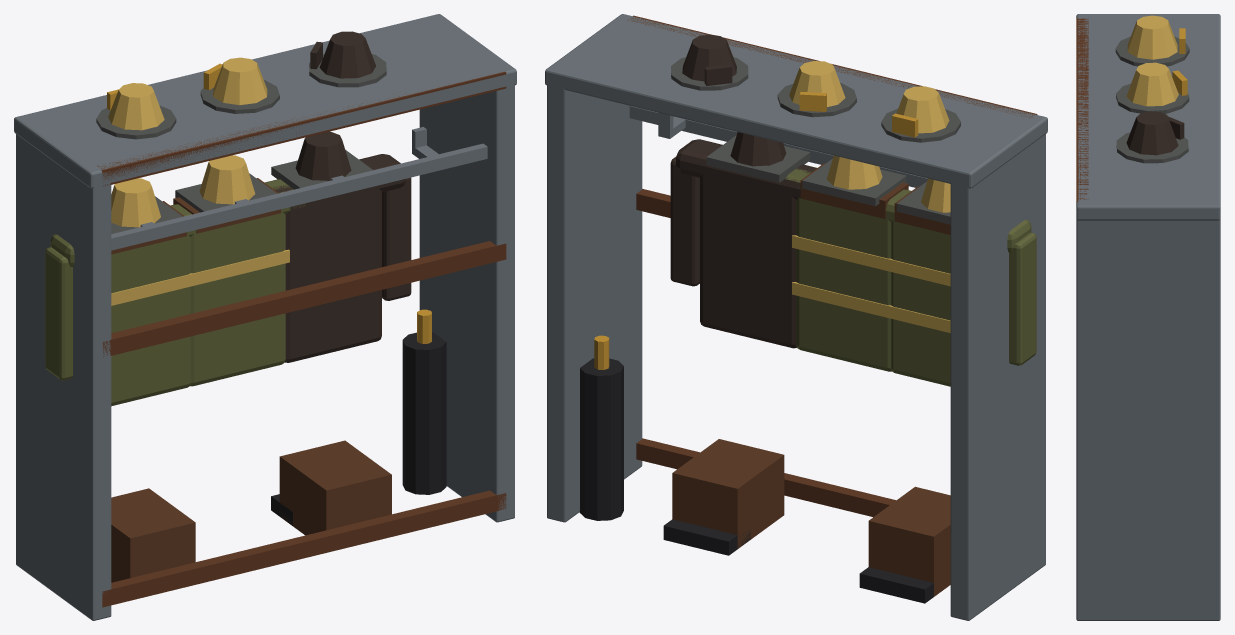
The model's file is gear_rack.glb.
3 renders of one model, left to right at view 1: azimuth 30°, elevation 25°; view 2: azimuth 150°, elevation 25°; view 3: azimuth 270°, elevation 25°, orthographic. The views are drawn at different scales.
Parts seen in each view (by area): view 1: gear_rack; view 2: gear_rack; view 3: gear_rack.
Part boxes in pixels (left/top/right/bottom): gear_rack: left=14, top=14, right=516, bottom=620; gear_rack: left=545, top=14, right=1047, bottom=620; gear_rack: left=1076, top=14, right=1220, bottom=620.
Size of what is drawn, in the model's own units: 2.27 by 2.39 by 0.7.
3 materials, 3 textured.
